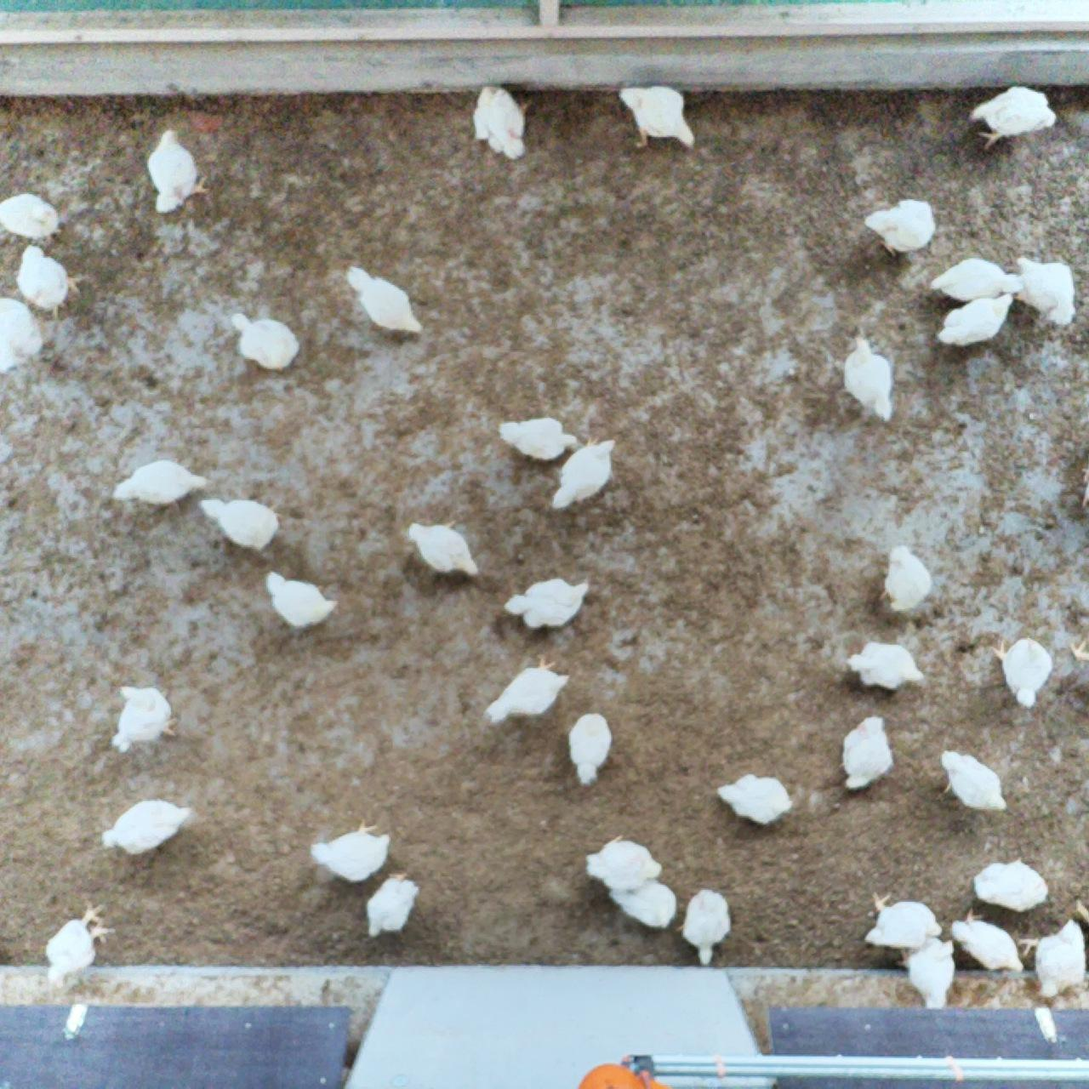chicken: (487, 656, 574, 739), (38, 898, 113, 994), (967, 82, 1063, 152), (310, 818, 404, 886), (1013, 914, 1089, 998), (143, 124, 211, 215), (340, 263, 427, 334), (101, 796, 196, 860), (614, 84, 698, 154), (898, 922, 961, 1013), (199, 492, 287, 554), (504, 574, 594, 634), (864, 886, 945, 951), (551, 434, 619, 511), (111, 457, 213, 508), (582, 828, 662, 892), (941, 744, 1010, 818), (16, 242, 83, 318), (264, 566, 341, 632), (109, 681, 181, 751), (840, 333, 893, 428), (841, 713, 899, 798), (989, 634, 1052, 712), (844, 636, 926, 694), (227, 308, 300, 373), (470, 84, 530, 163), (937, 292, 1016, 352), (405, 517, 480, 580), (927, 258, 1021, 308), (970, 856, 1051, 914), (674, 889, 734, 967), (863, 197, 937, 260), (948, 913, 1023, 975), (1013, 253, 1077, 325), (495, 411, 579, 465), (606, 868, 676, 930), (876, 543, 935, 616), (361, 869, 421, 939), (717, 773, 793, 824), (0, 288, 49, 363), (569, 710, 612, 787), (0, 187, 59, 243)
